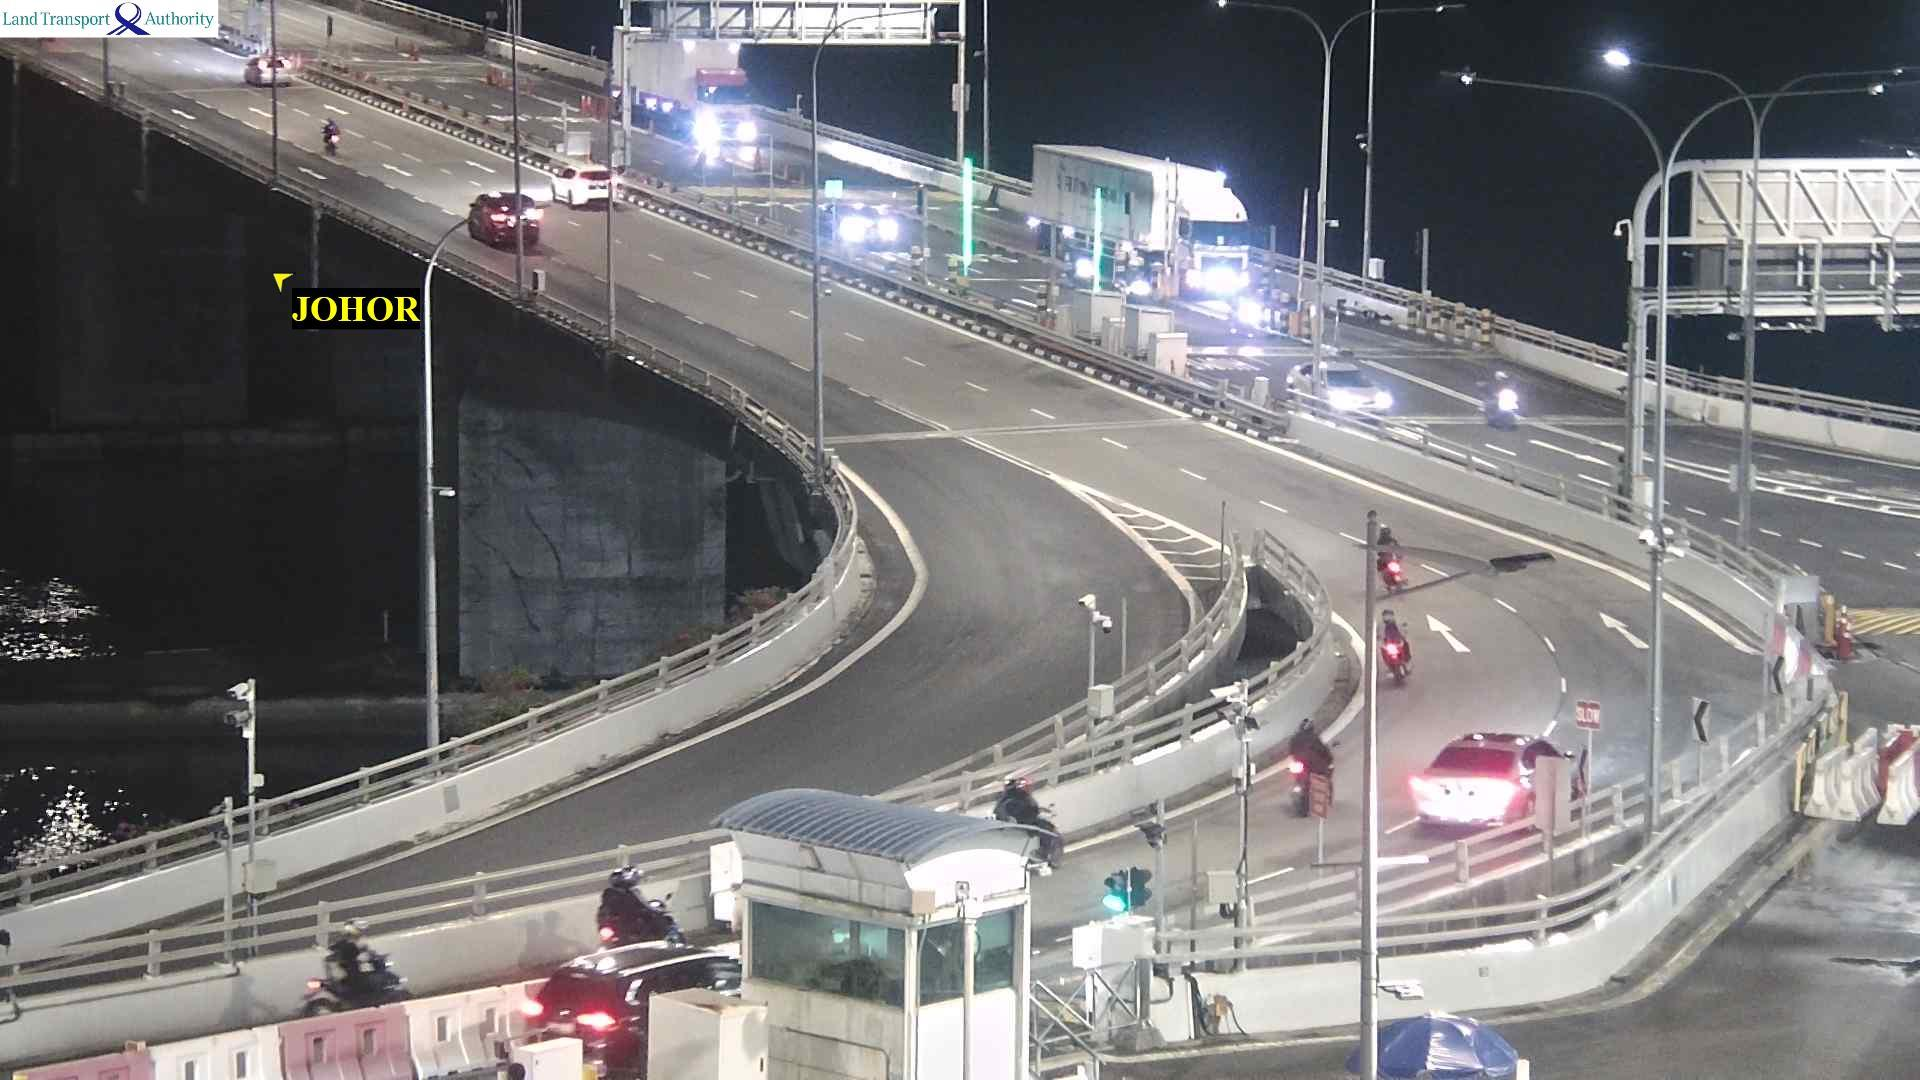vehicle-secondlink-johor: (531, 936, 756, 1055), (1415, 723, 1560, 824), (297, 924, 409, 1014), (600, 864, 682, 948), (582, 1004, 651, 1080), (469, 194, 542, 252), (1001, 773, 1065, 832), (1375, 617, 1414, 684), (550, 167, 618, 200), (1286, 761, 1320, 816), (1381, 526, 1410, 591), (247, 55, 293, 87), (320, 116, 347, 154)
vehicle-secondlink-singapore: (998, 140, 1254, 301), (607, 26, 762, 153), (1287, 363, 1396, 413), (812, 198, 898, 251), (1468, 363, 1524, 430)
